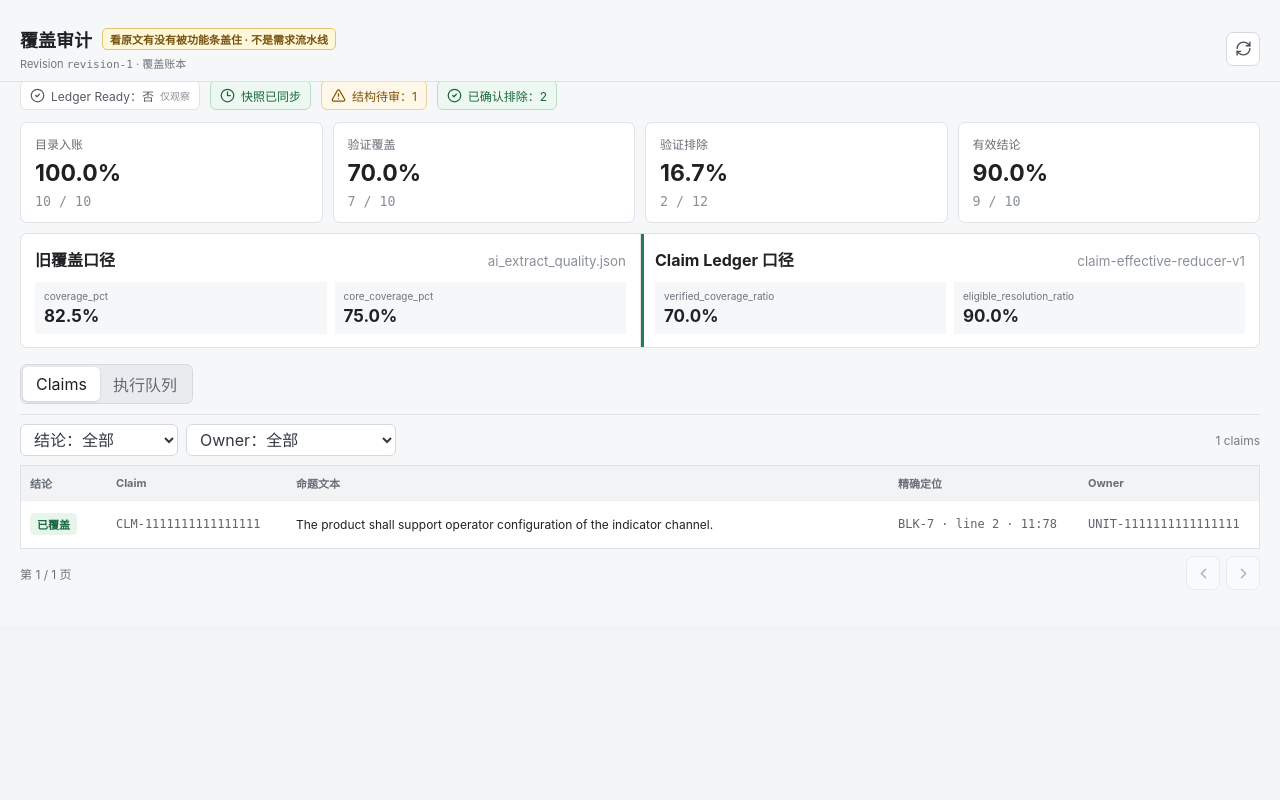
Test: ClaimLedger › renders revision-pinned metrics, comparison, claims, and Queue v2 actions
The width and height of the screenshot is (1280, 800).
Expected: the element with test id "claim-structural-pending-count" shows "1", [352,88,417,104]
Expected: the element with test id "claim-structural-confirmed-count" shows "2", [468,88,547,104]
Click the tab "执行队列": (145, 384) [100,367,190,401]
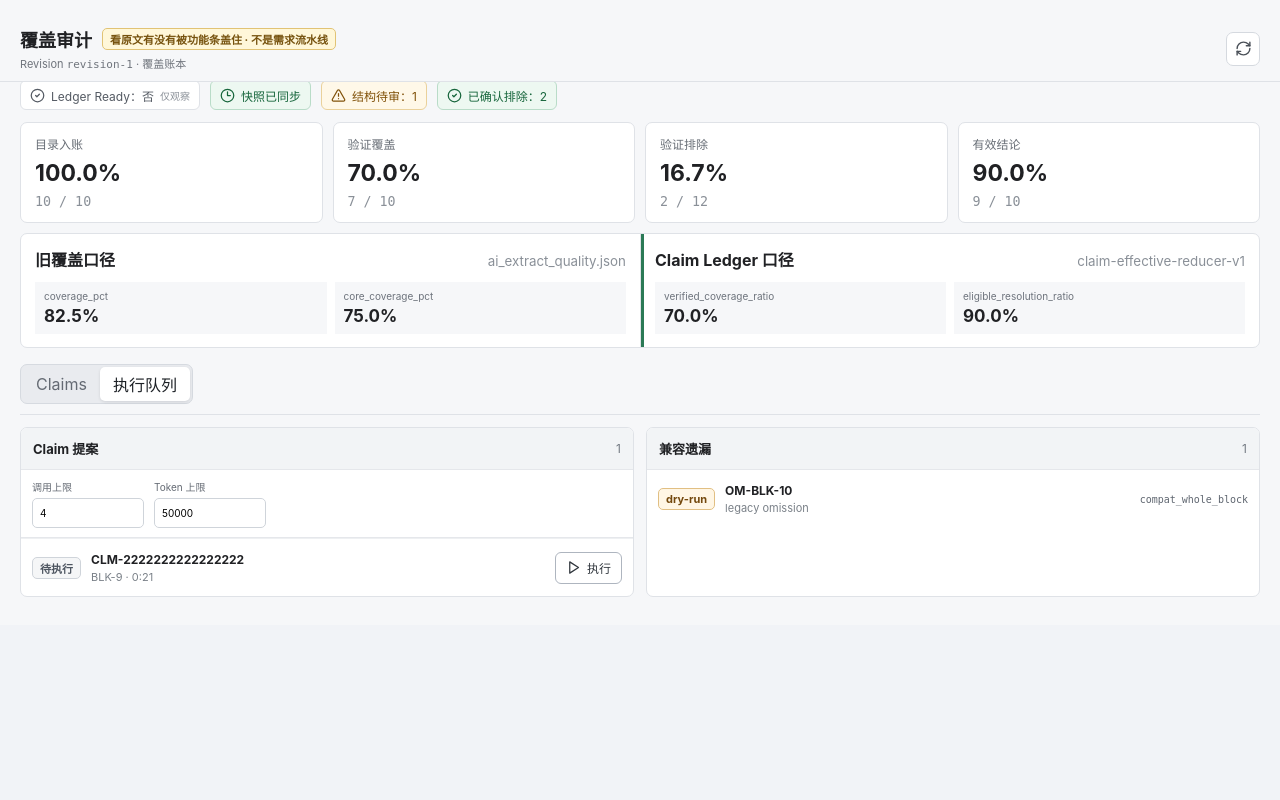
Now the element with test id "claim-queue" shows "CLM-2222222222222222", box [91,552,244,566]
Now the element with test id "claim-queue" shows "OM-BLK-10", box [725,483,792,498]
Now the element with test id "claim-queue" shows "dry-run", box [666,492,707,506]
